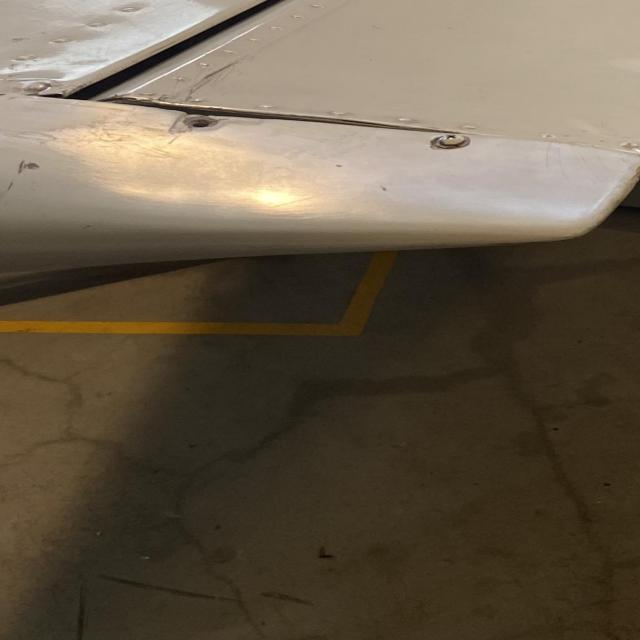Missing-head: (177, 116, 218, 132)
Paint-off: (4, 160, 38, 194)
